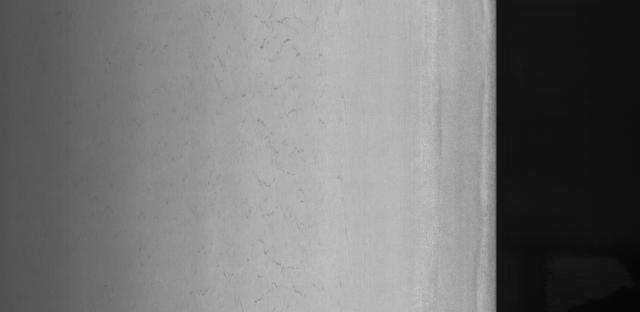silk_spot: (195, 0, 332, 297)
